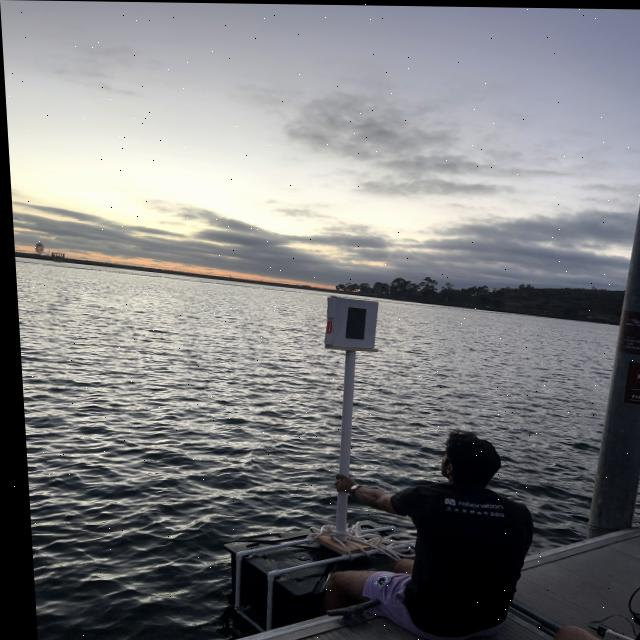led: (330, 294, 370, 347)
